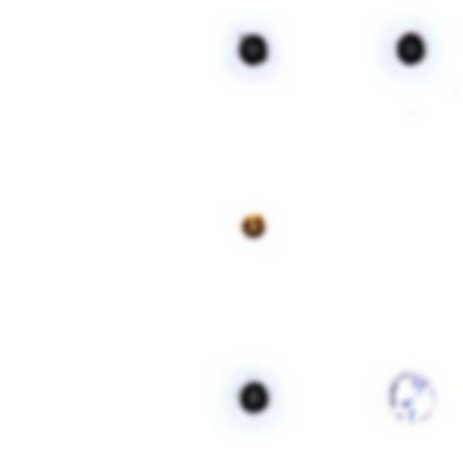abnormal: (367, 356, 455, 441)
cancer: (210, 358, 291, 438), (367, 15, 445, 91), (210, 24, 291, 97)
normal: (222, 206, 273, 259)
